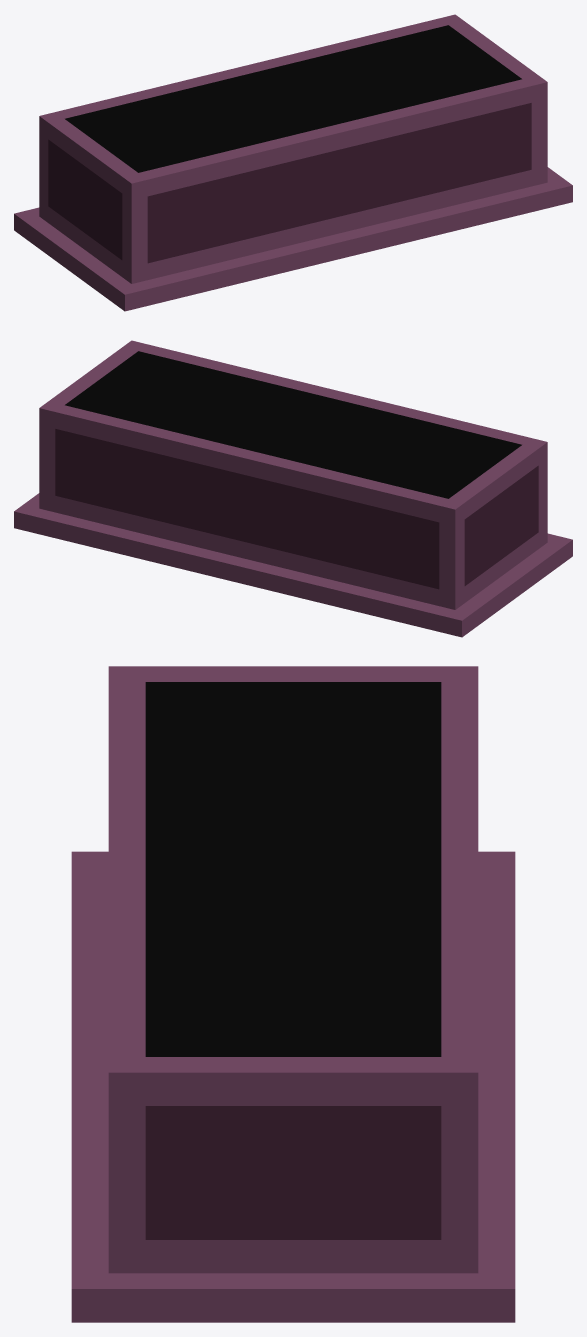
The model's file is tomb_c_a.obj.
3 views of the same model, one above another, from view 1: azimuth 30°, elevation 25°; view 2: azimuth 150°, elevation 25°; view 3: azimuth 270°, elevation 25° (orthographic). The views are drawn at different scales.
Bounding box in the file's own units: 2.8 × 0.7 × 1.2.
Materials: 1 (1 with a texture image).
